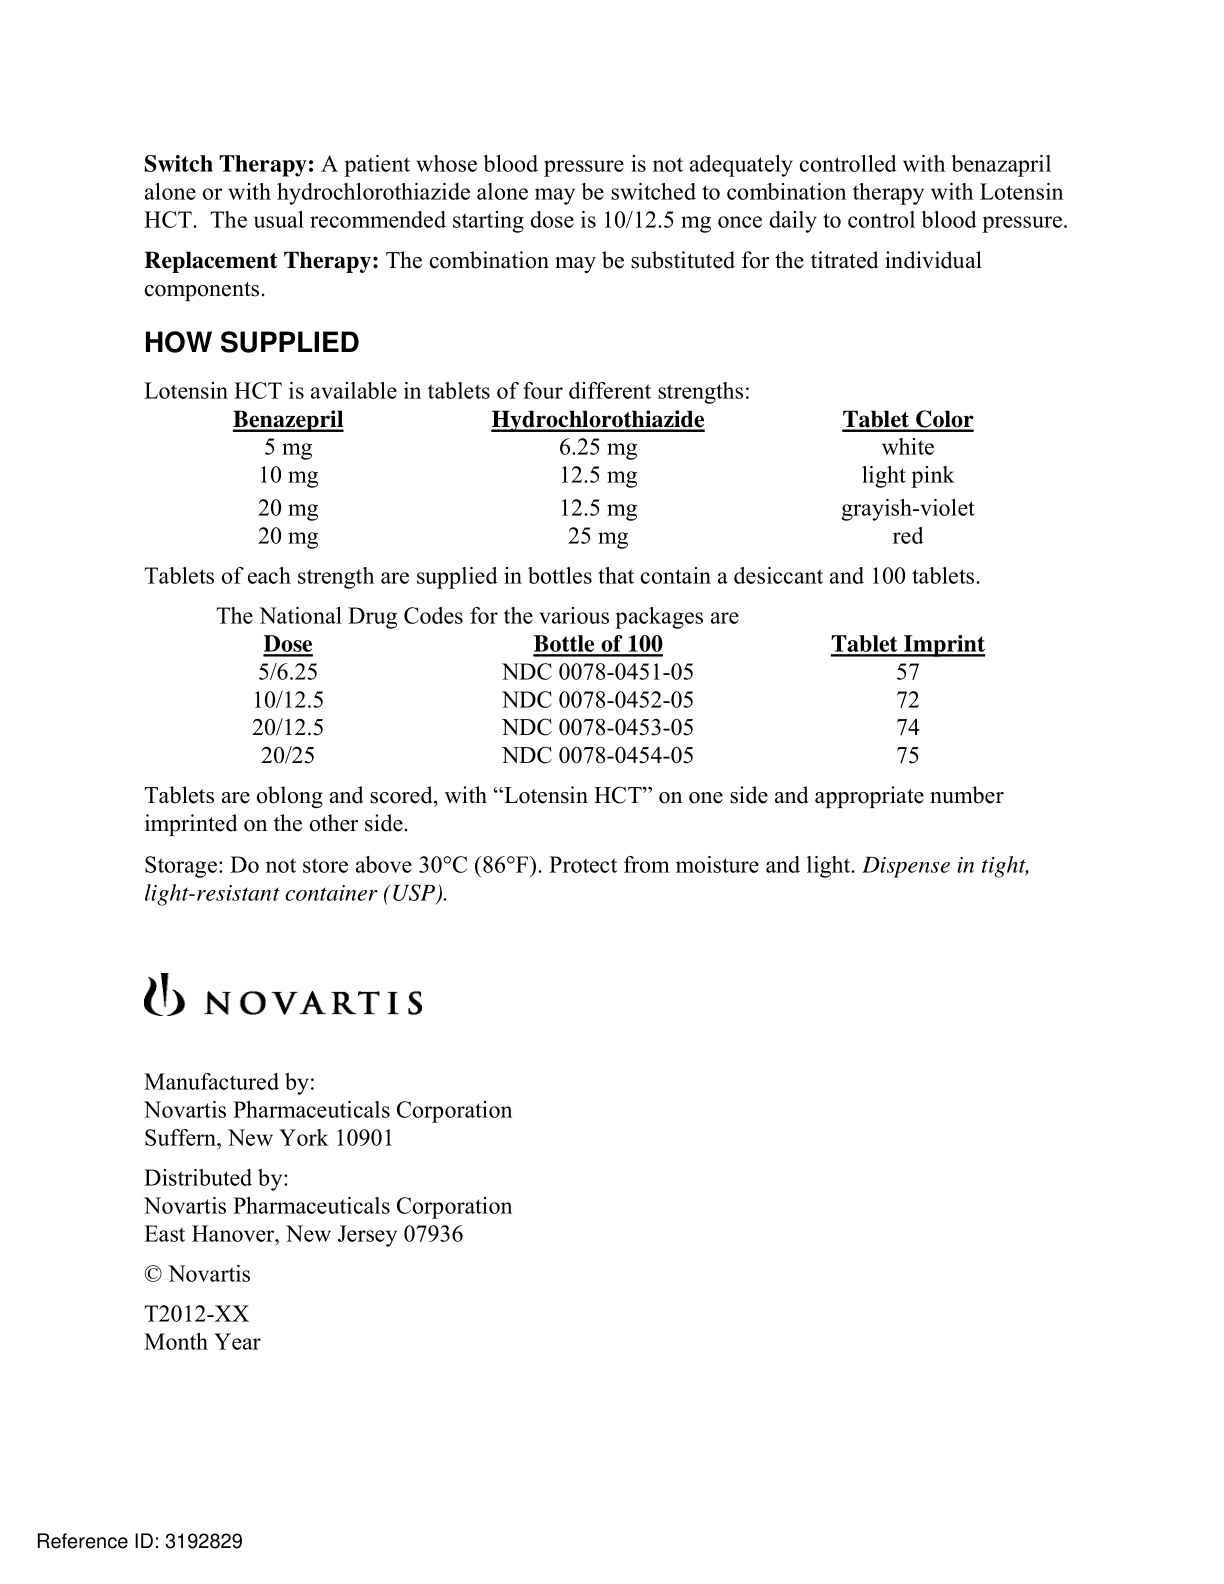nolines: (231, 406, 978, 546), (255, 631, 987, 762)
